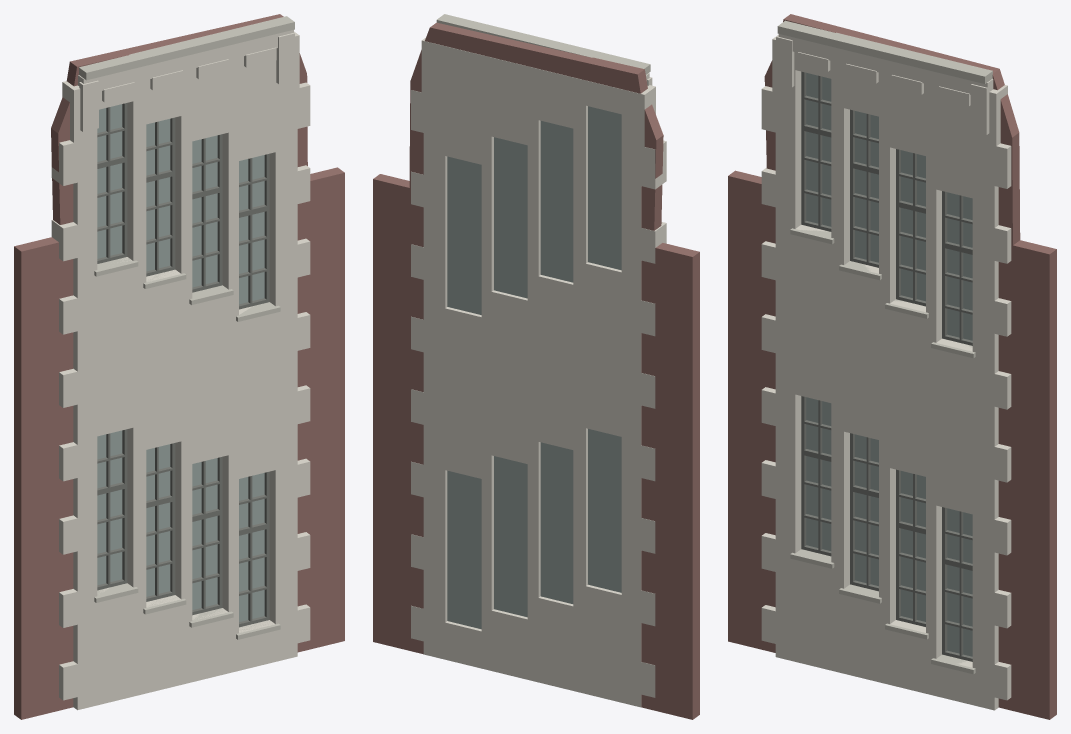
The model's file is huangpu-bund-garden-residence-stair-bay-lod.glb.
3 renders of one model, left to right at view 1: azimuth 30°, elevation 25°; view 2: azimuth 150°, elevation 25°; view 3: azimuth 330°, elevation 25°, orthographic.
Parts seen in each view (by area): view 1: 汉口路花园住宅临街错层楼梯窗; view 2: 汉口路花园住宅临街错层楼梯窗; view 3: 汉口路花园住宅临街错层楼梯窗.
Boxes of the visible parts, left/top/right/bottom form: 汉口路花园住宅临街错层楼梯窗: left=14, top=14, right=344, bottom=719; 汉口路花园住宅临街错层楼梯窗: left=373, top=14, right=699, bottom=719; 汉口路花园住宅临街错层楼梯窗: left=728, top=14, right=1056, bottom=719.
Bounding box in the file's own units: 3.6 × 6.8 × 0.288.
